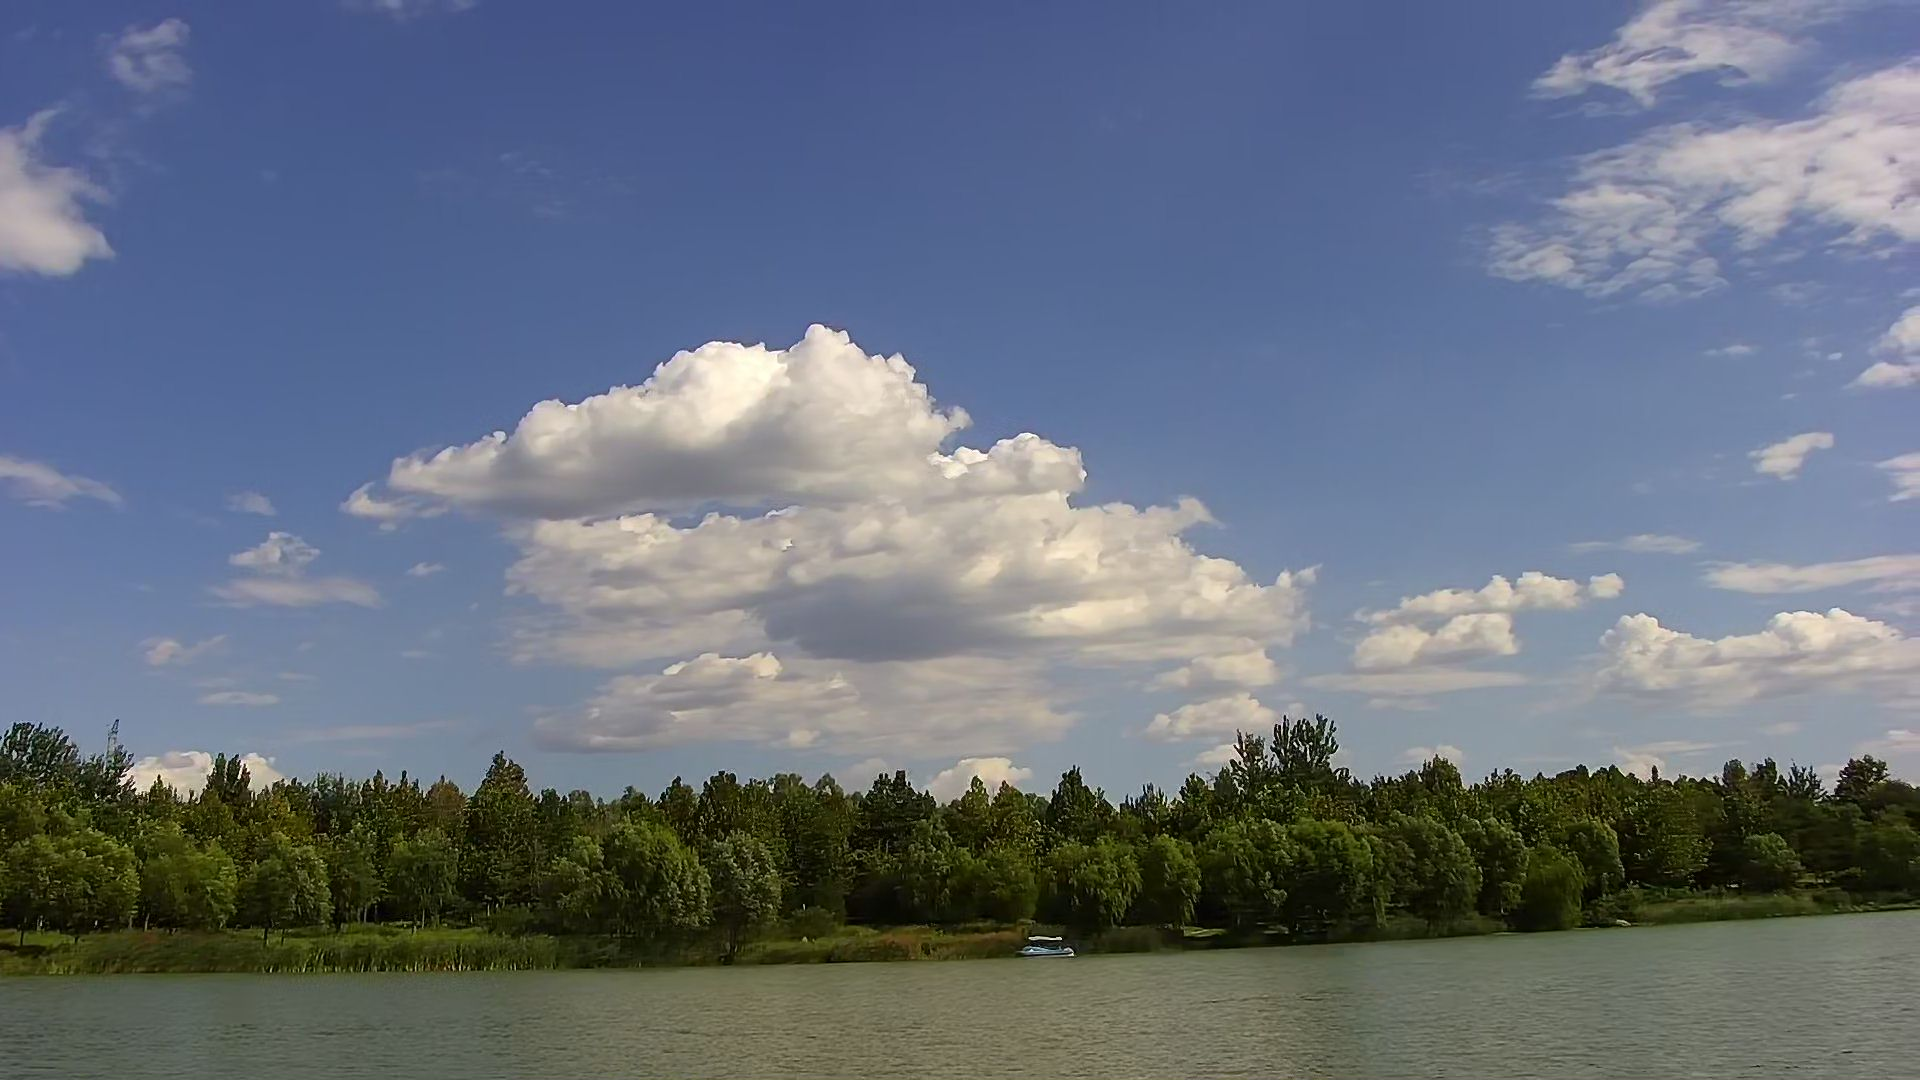boat: (1011, 930, 1083, 963)
